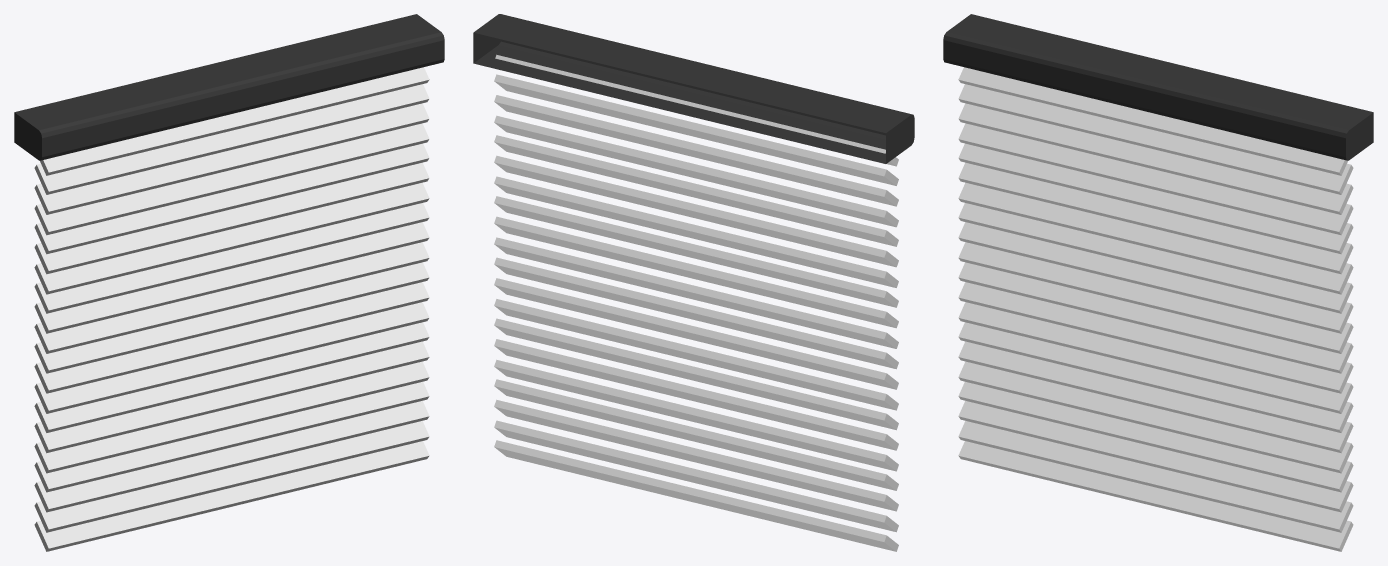
The model's file is blinds_closed.glb.
The picture shows the model from 3 angles, left to right: view 1: azimuth 30°, elevation 25°; view 2: azimuth 150°, elevation 25°; view 3: azimuth 330°, elevation 25°; orthographic projection. The views are drawn at different scales.
Parts seen in each view (by area): view 1: Blinds (Closed); view 2: Blinds (Closed); view 3: Blinds (Closed).
Part boxes in pixels (x1,y1,x2,y2): Blinds (Closed): [14, 14, 444, 551]; Blinds (Closed): [473, 14, 914, 551]; Blinds (Closed): [943, 14, 1373, 551].
Size of the model in its own units: 1.73 by 1.75 by 0.2078.
1 material, 1 textured.
